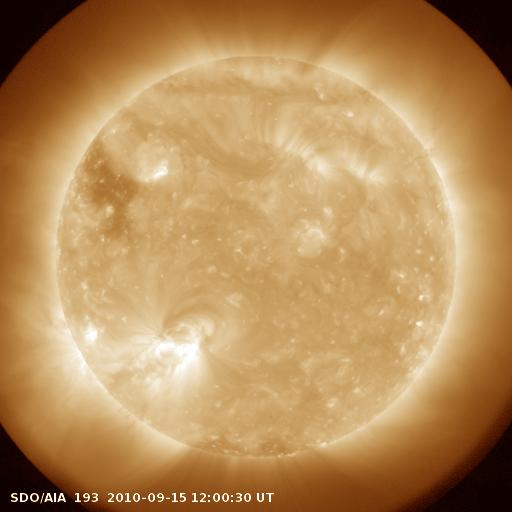coronal_hole: (73, 130, 145, 234)
